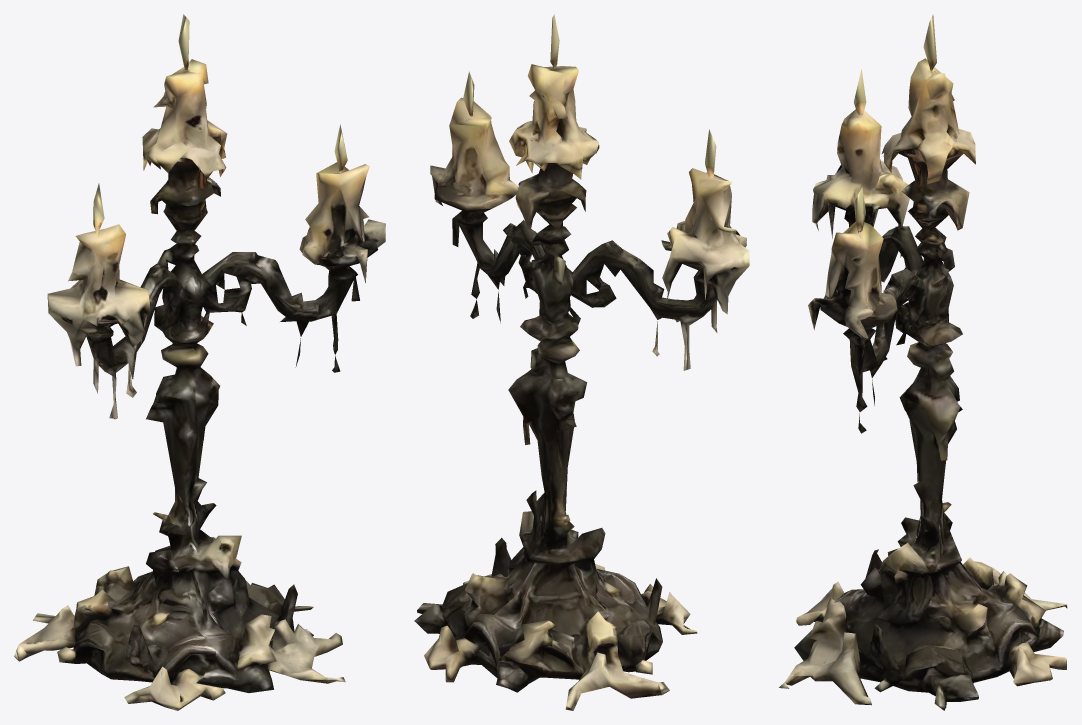
The model's file is melted_candelabra.glb.
3 renders of one model, left to right at view 1: azimuth 30°, elevation 25°; view 2: azimuth 150°, elevation 25°; view 3: azimuth 270°, elevation 25°, orthographic.
Parts seen in each view (by area): view 1: tripo_node_a1e23f37-1b6f-4872-9748-40401d9f54ff; view 2: tripo_node_a1e23f37-1b6f-4872-9748-40401d9f54ff; view 3: tripo_node_a1e23f37-1b6f-4872-9748-40401d9f54ff.
Boxes of the visible parts, left/top/right/bottom form: tripo_node_a1e23f37-1b6f-4872-9748-40401d9f54ff: left=14, top=14, right=385, bottom=710; tripo_node_a1e23f37-1b6f-4872-9748-40401d9f54ff: left=414, top=14, right=749, bottom=710; tripo_node_a1e23f37-1b6f-4872-9748-40401d9f54ff: left=779, top=14, right=1067, bottom=710.
Size of the model in its own units: 0.5308 by 0.98 by 0.403.
Materials: 1 (1 with a texture image).
